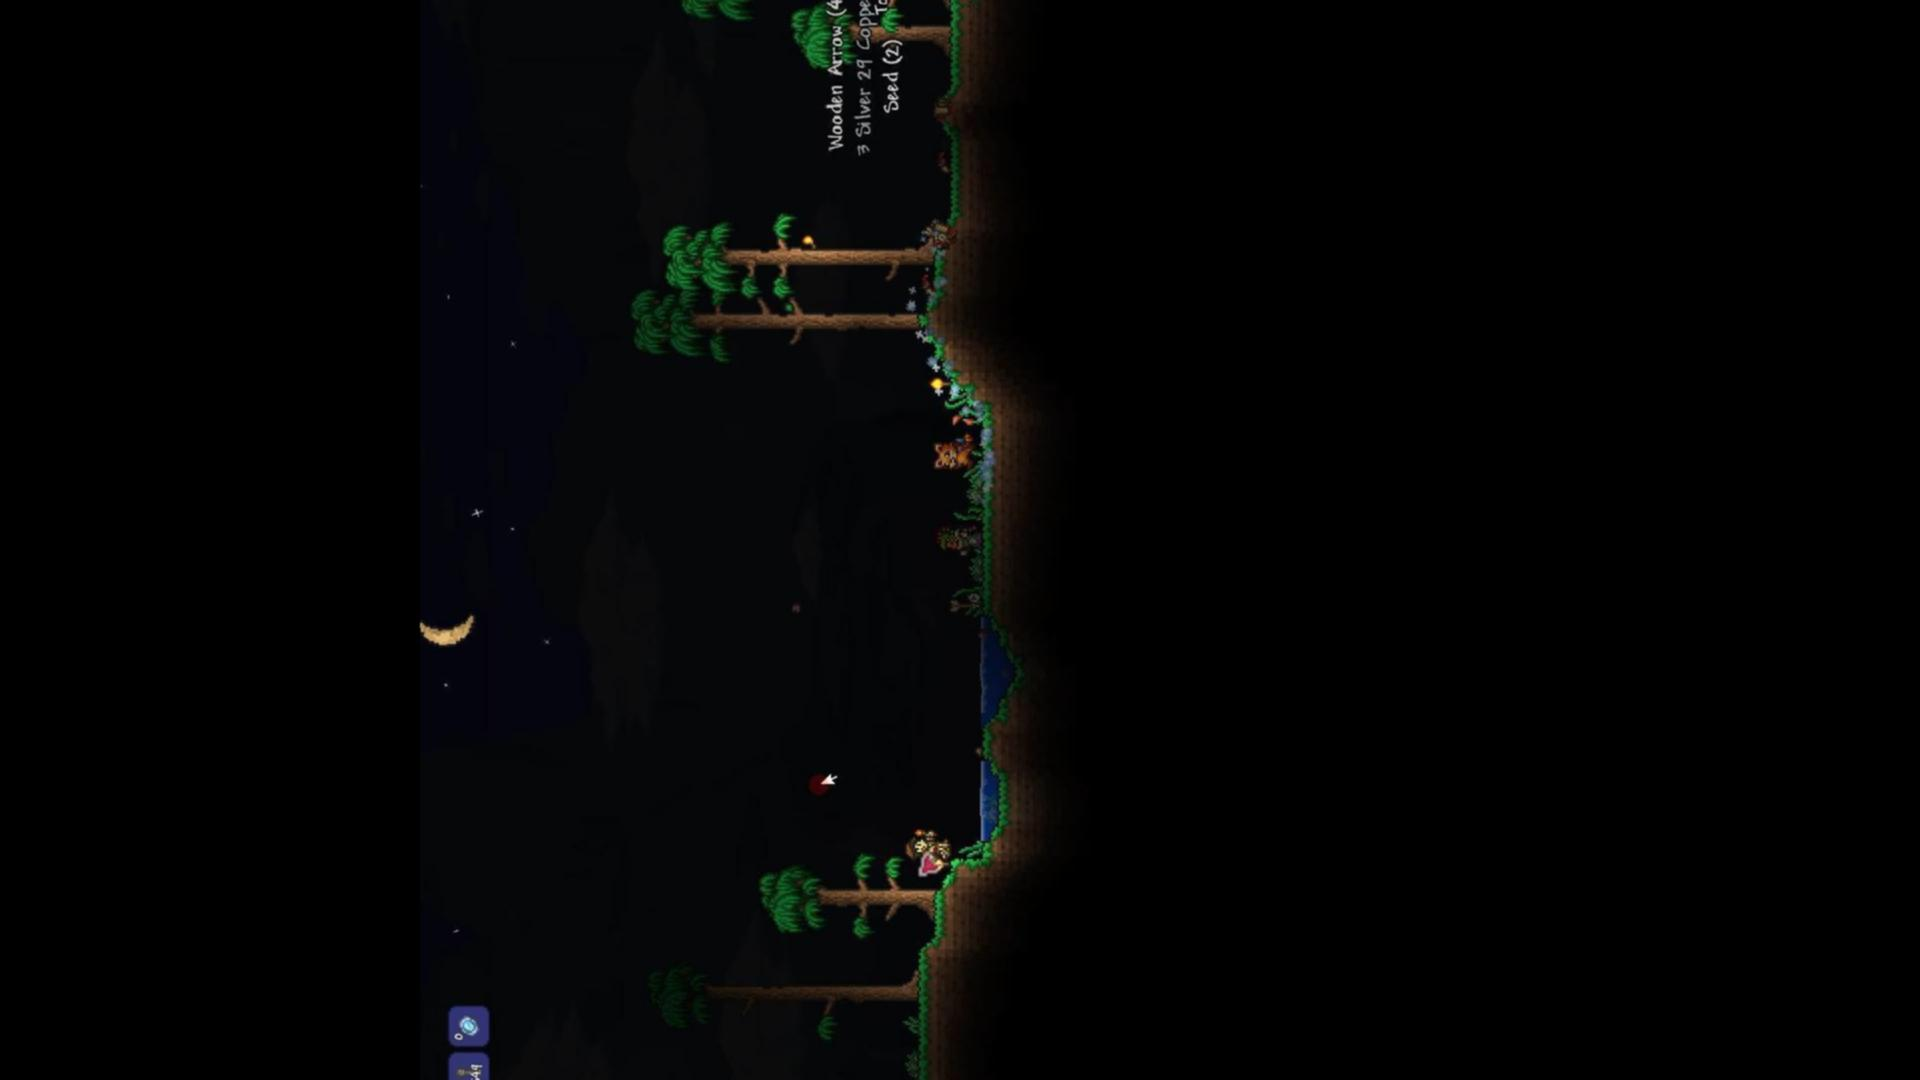tree: (620, 266, 947, 377), (744, 837, 953, 949), (775, 0, 968, 83)
